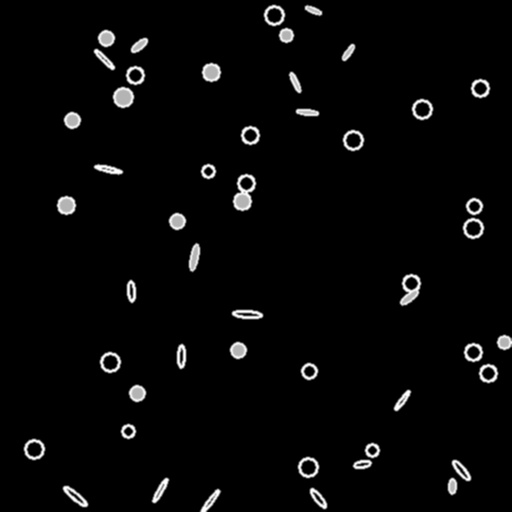pseudomonas: (62, 484, 88, 508), (199, 488, 221, 512), (93, 48, 115, 70), (451, 458, 471, 482), (151, 477, 169, 503), (308, 487, 328, 509), (399, 288, 419, 306), (393, 390, 411, 410), (129, 36, 149, 54), (188, 243, 200, 271), (95, 164, 121, 174), (341, 43, 355, 61), (289, 72, 301, 92), (233, 310, 261, 318), (127, 280, 135, 302), (297, 108, 317, 116), (305, 5, 321, 15), (178, 344, 184, 368), (353, 460, 371, 468), (448, 478, 456, 494)
synechocystis: (344, 131, 362, 149), (25, 440, 43, 458), (464, 219, 482, 237), (101, 353, 119, 371), (265, 6, 283, 24), (299, 458, 317, 476), (114, 88, 132, 106), (413, 100, 431, 118), (472, 80, 488, 96), (465, 344, 481, 360), (403, 275, 419, 291), (238, 175, 254, 191), (127, 67, 143, 83), (242, 127, 258, 143), (203, 64, 219, 80), (58, 197, 74, 213), (480, 365, 496, 381), (234, 193, 250, 209), (65, 113, 79, 127), (467, 199, 481, 213), (170, 214, 184, 228), (231, 343, 245, 357), (130, 386, 144, 400), (99, 31, 113, 45), (302, 364, 316, 378), (122, 425, 134, 437), (498, 336, 510, 348), (366, 444, 378, 456), (202, 165, 214, 177), (280, 29, 292, 41)
